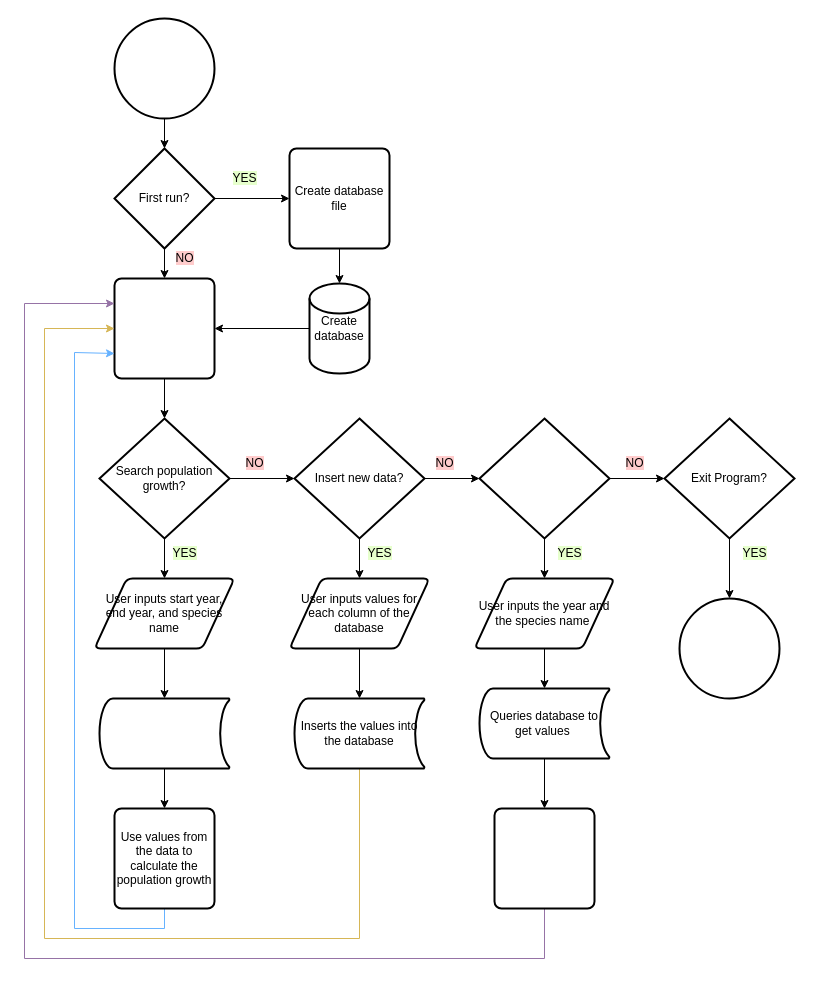
This 813x984 diagram has some shape labels left out. The centre of each missing label's shape, as x and y in pixels:
"End" goes at pixel 729 648.
"Makes a table using for loops to display data" goes at pixel 544 858.
"Present the of options to the user" goes at pixel 164 328.
"Queries database to find the values needed for calculation" goes at pixel 164 733.
"Start" goes at pixel 164 68.
"View specific data?" goes at pixel 544 478.
